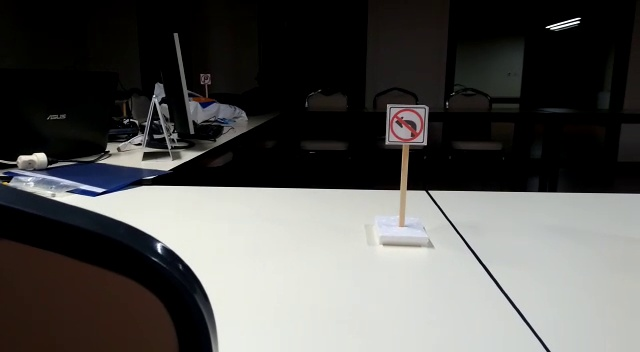sola_donulmez: (385, 106, 426, 145)
